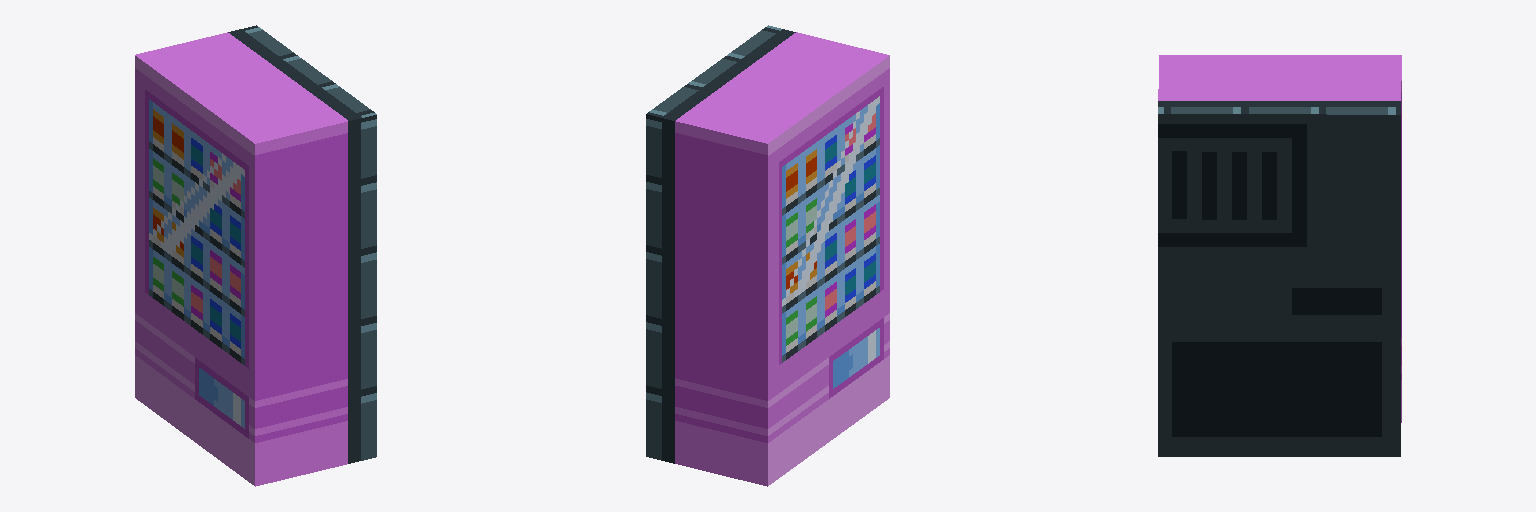
3 renders of one model, left to right at view 1: azimuth 30°, elevation 25°; view 2: azimuth 150°, elevation 25°; view 3: azimuth 270°, elevation 25°, orthographic.
Visible parts, largest first — view 1: Vending_Machine_Purple; view 2: Vending_Machine_Purple; view 3: Vending_Machine_Purple.
Part boxes in pixels (bbox=[...]): Vending_Machine_Purple: bbox=[135, 25, 376, 486]; Vending_Machine_Purple: bbox=[646, 25, 889, 486]; Vending_Machine_Purple: bbox=[1158, 55, 1401, 456].
Size of the model in its own units: 0.7322 by 1.95 by 1.26.
Materials: 1 (1 with a texture image).